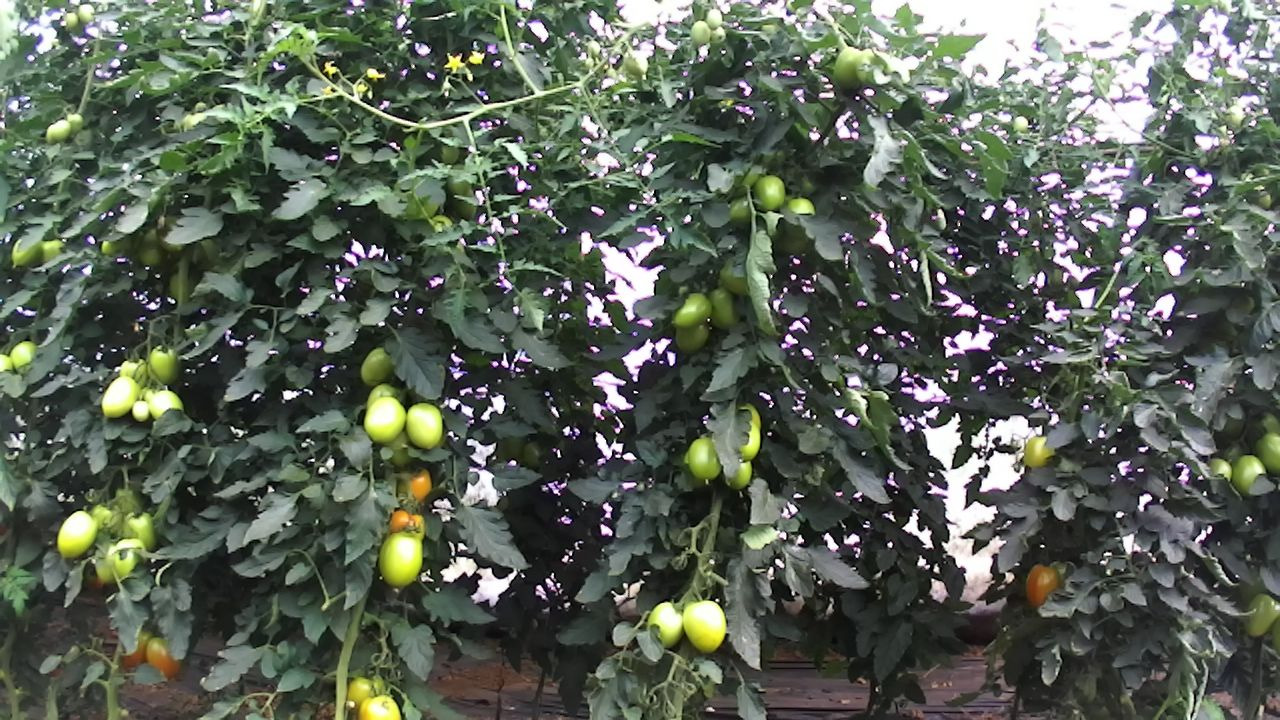tomato: (375, 529, 425, 590), (678, 596, 728, 655), (641, 596, 691, 652), (361, 393, 408, 446), (54, 508, 100, 561), (98, 371, 142, 420), (702, 283, 744, 334), (404, 398, 443, 451), (667, 288, 716, 330), (1229, 450, 1271, 498), (143, 633, 183, 682), (1021, 561, 1061, 609), (1241, 591, 1280, 640), (686, 434, 722, 483), (829, 43, 865, 91), (123, 509, 160, 555), (145, 385, 185, 425), (358, 345, 396, 387), (147, 342, 181, 388), (134, 224, 166, 271), (1249, 429, 1280, 477), (749, 172, 786, 212), (1021, 431, 1058, 470), (672, 319, 711, 355), (357, 691, 403, 720), (726, 454, 756, 492), (130, 398, 150, 422)
